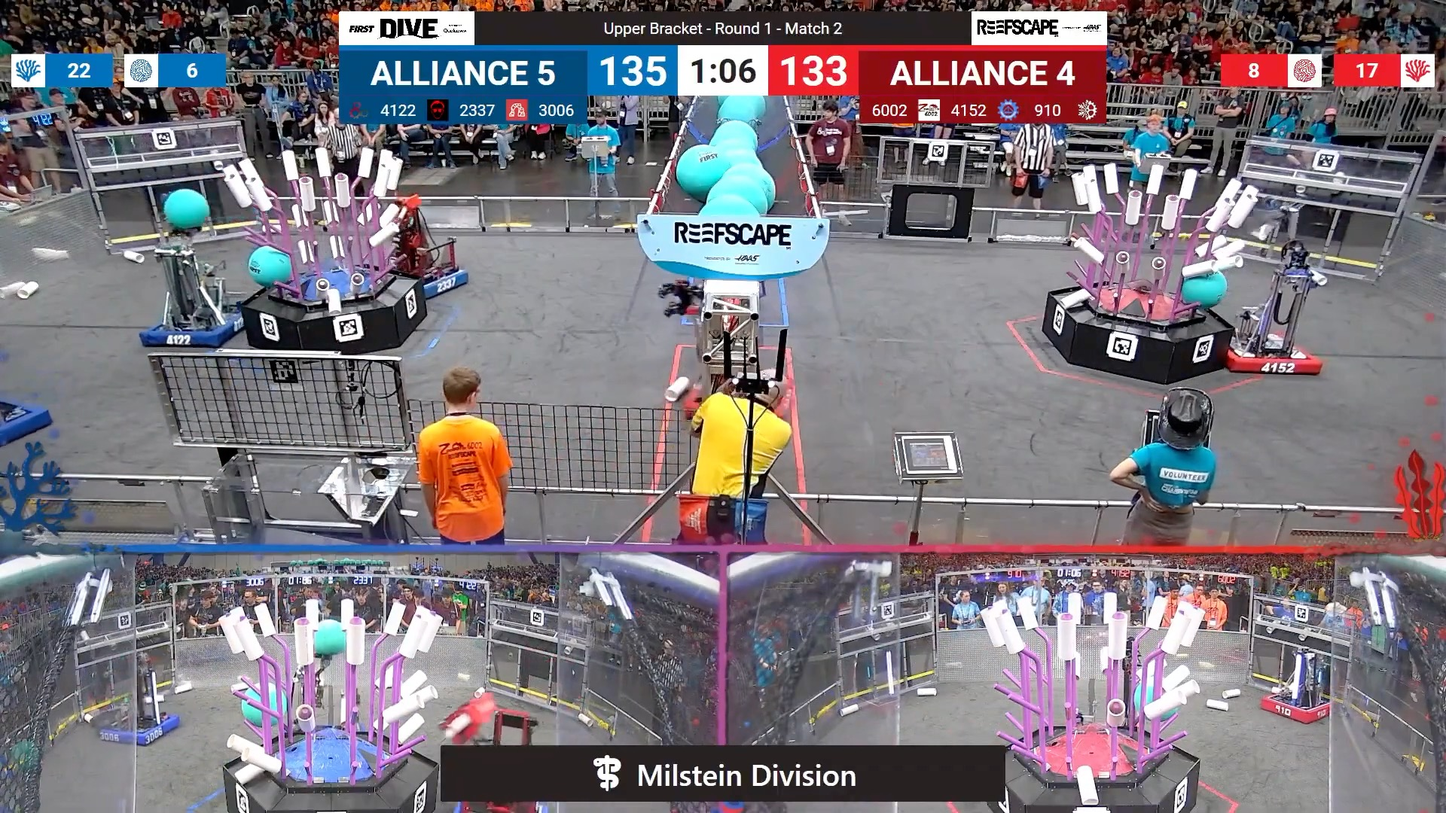bumpers: (1215, 327, 1329, 382), (139, 303, 248, 352), (91, 708, 187, 752), (0, 393, 61, 460), (396, 260, 474, 300), (1252, 690, 1339, 725)
